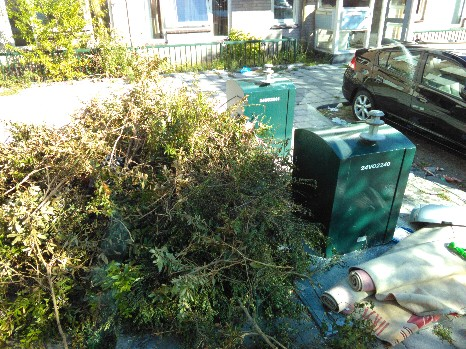Container: (303, 129, 404, 240), (241, 72, 292, 135)
GFT: (25, 102, 268, 345)
Rest: (344, 235, 466, 318)
Voertuig: (350, 40, 459, 140)
